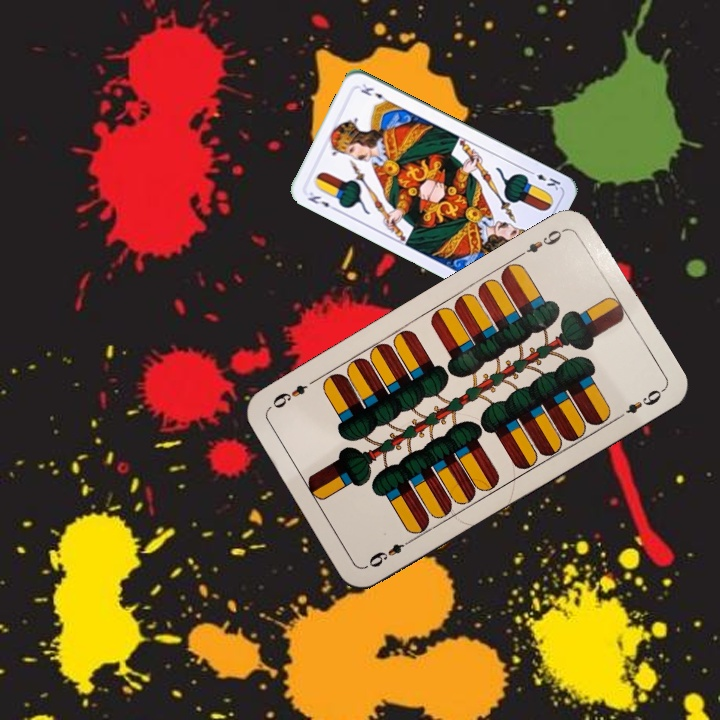E9: (515, 224, 569, 260), (364, 534, 416, 570)
EK: (524, 167, 563, 193), (303, 188, 339, 213)
